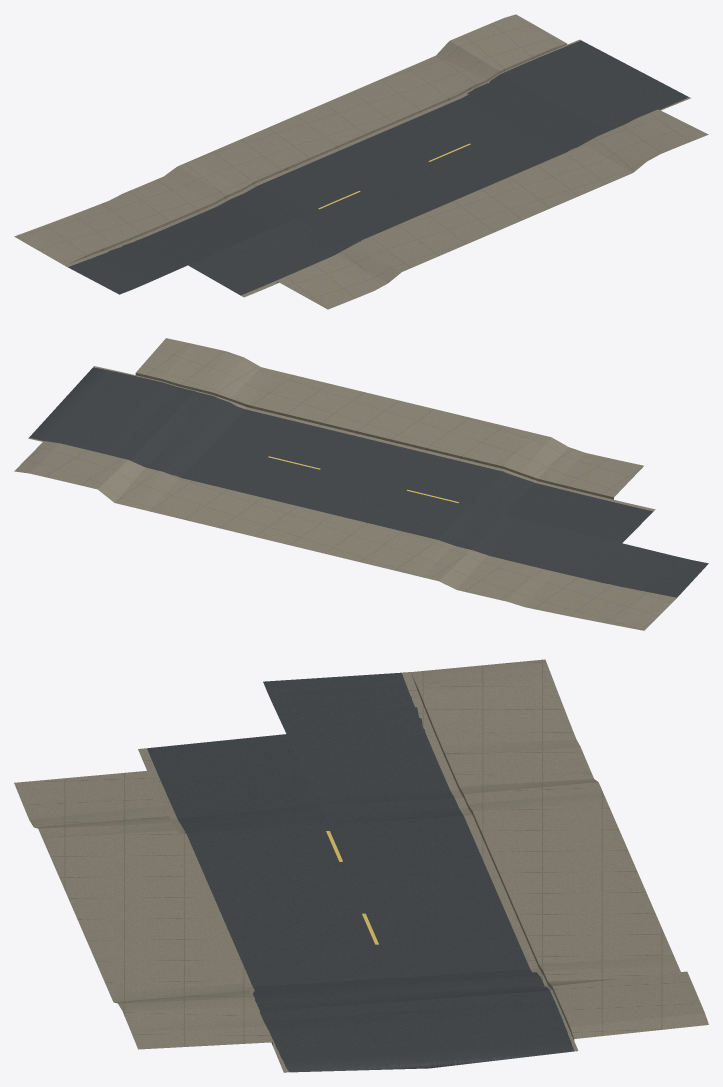
3 renders of one model, top to bottom at view 1: azimuth 30°, elevation 25°; view 2: azimuth 150°, elevation 25°; view 3: azimuth 270°, elevation 25°, orthographic. The views are drawn at different scales.
Visible parts, largest first — view 1: Carriageway, Clipped sidewalks with lowered crossing approaches, Concrete drainage margins, Raised curb faces; view 2: Carriageway, Clipped sidewalks with lowered crossing approaches, Concrete drainage margins, Raised curb faces; view 3: Carriageway, Clipped sidewalks with lowered crossing approaches, Concrete drainage margins, Raised curb faces.
Boxes of the visible parts, x1,y1,x2,y2 form: Carriageway: [66, 40, 688, 295]; Clipped sidewalks with lowered crossing approaches: [14, 14, 708, 309]; Concrete drainage margins: [64, 39, 690, 297]; Raised curb faces: [66, 43, 567, 283]; Carriageway: [29, 367, 708, 598]; Clipped sidewalks with lowered crossing approaches: [14, 338, 674, 630]; Concrete drainage margins: [28, 366, 676, 599]; Raised curb faces: [135, 373, 613, 499]; Carriageway: [142, 672, 576, 1072]; Clipped sidewalks with lowered crossing approaches: [14, 659, 708, 1049]; Concrete drainage margins: [138, 672, 578, 1072]; Raised curb faces: [271, 676, 574, 1045].
Size of the model in its own units: 39.26 by 3.46 by 23.28.
